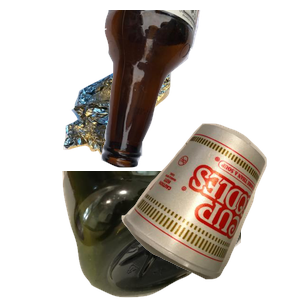glass: (99, 10, 300, 170)
metal: (61, 54, 225, 202)
plastic: (60, 171, 300, 300)
trash: (119, 121, 300, 300)
